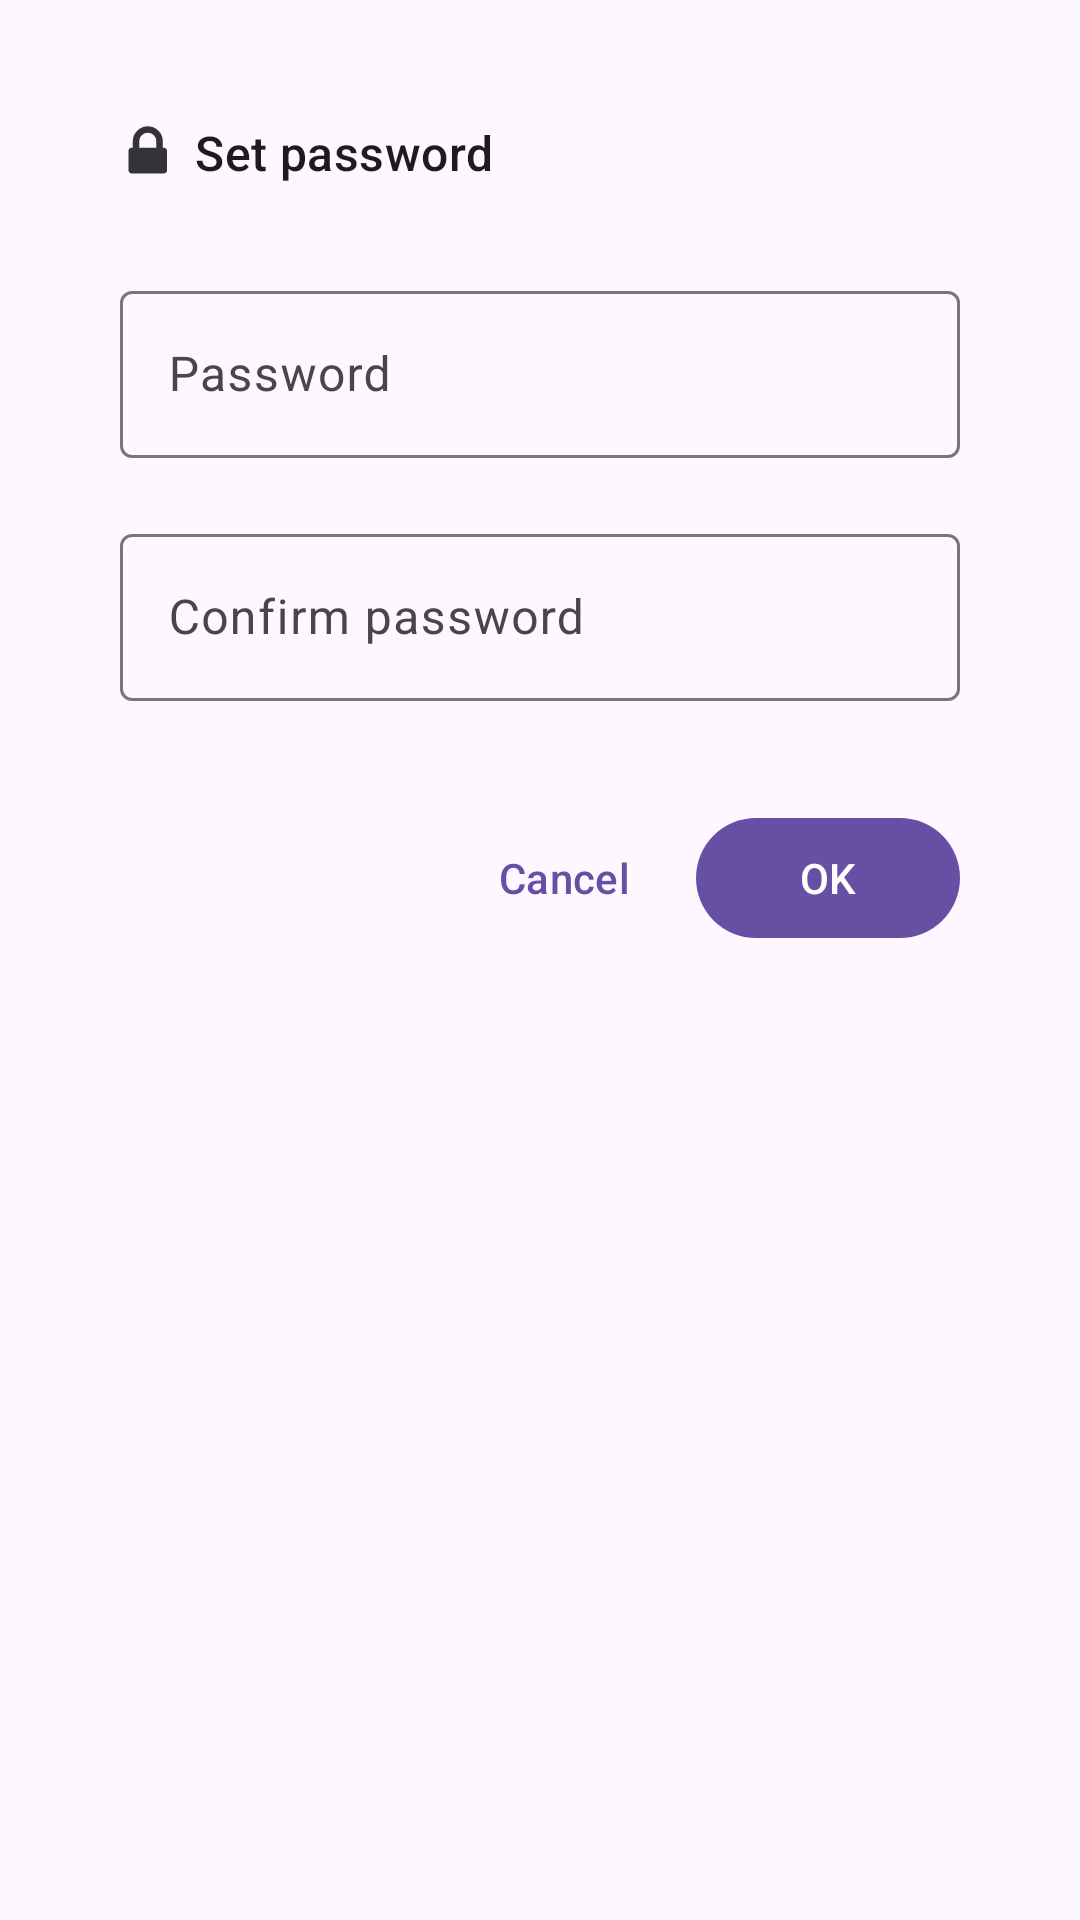

Where to tap for icons on this 1080px×1920px app screen, as point (x, y):
lock: point (147, 150)
